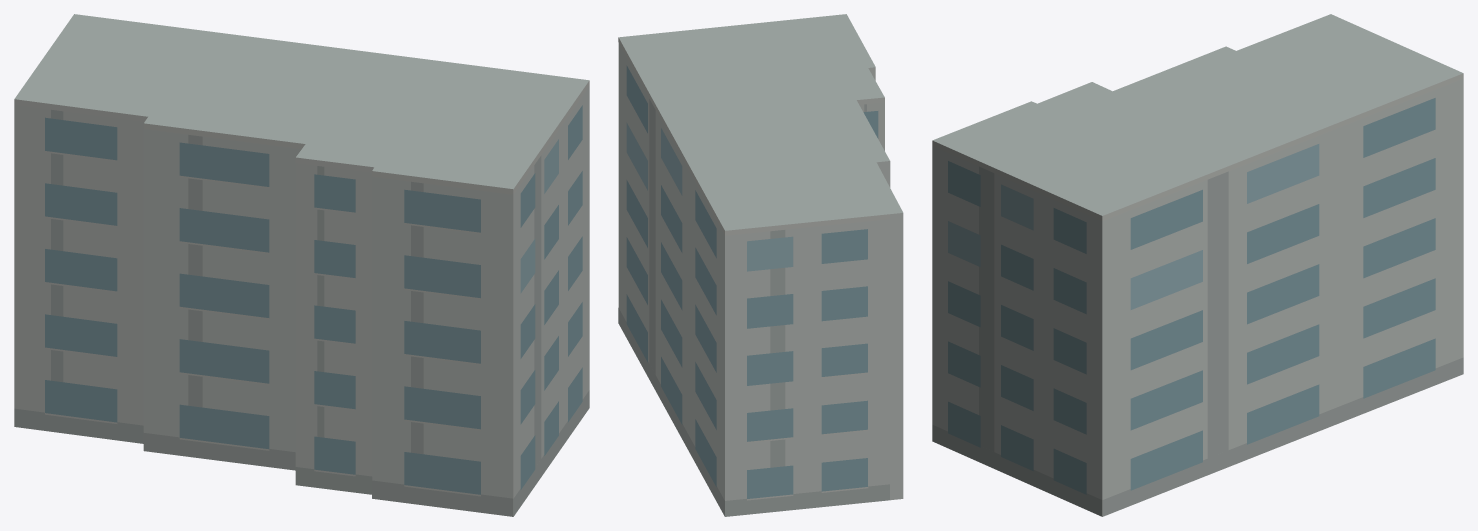
The model's file is survey-upis-32950488.glb.
3 renders of one model, left to right at view 1: azimuth 30°, elevation 25°; view 2: azimuth 150°, elevation 25°; view 3: azimuth 270°, elevation 25°, orthographic. The views are drawn at different scales.
Parts seen in each view (by area): view 1: survey-upis-32950488.tmp; view 2: survey-upis-32950488.tmp; view 3: survey-upis-32950488.tmp.
Part boxes in pixels (<box>): survey-upis-32950488.tmp: <box>14,14,589,516</box>; survey-upis-32950488.tmp: <box>618,14,903,516</box>; survey-upis-32950488.tmp: <box>932,14,1463,516</box>.
Size of the model in its own units: 20.02 by 13.9 by 22.25.
